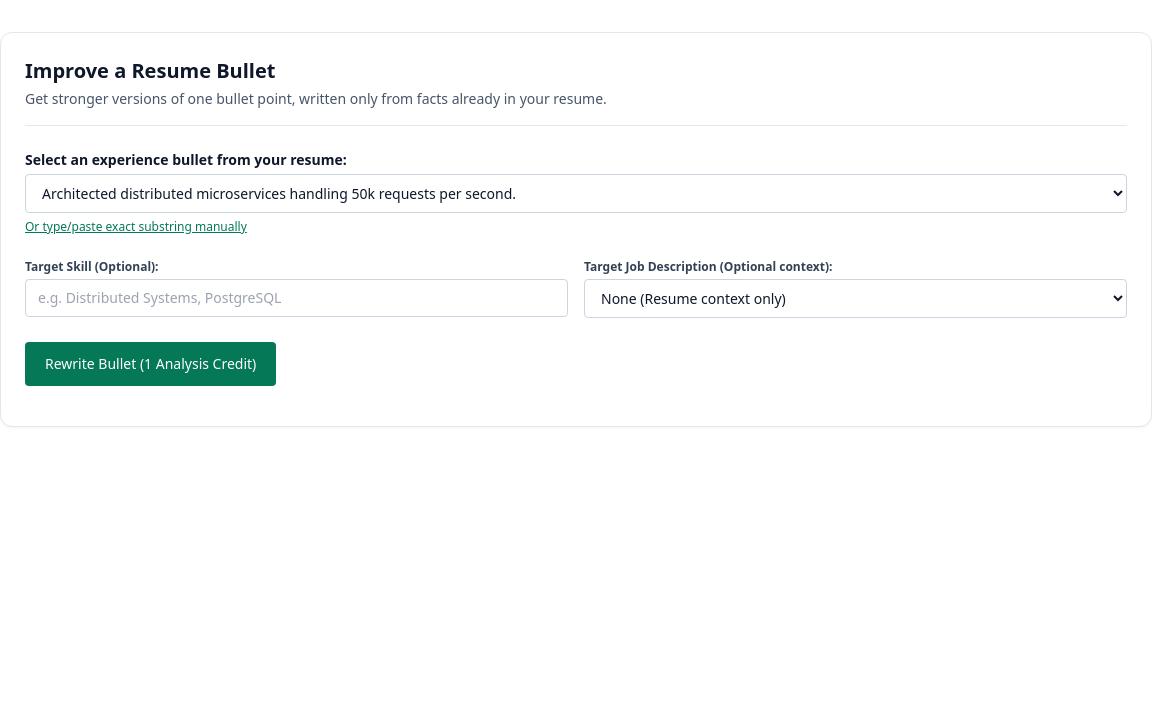
it: BulletEditor Component › renders evidence highlights inside original context with diff legend
This screenshot has width=1152, height=720.
Click the button "Rewrite Bullet (1 Analysis Credit)": (151, 364) top-left (25, 342), bottom-right (276, 386)
(page scrolled)
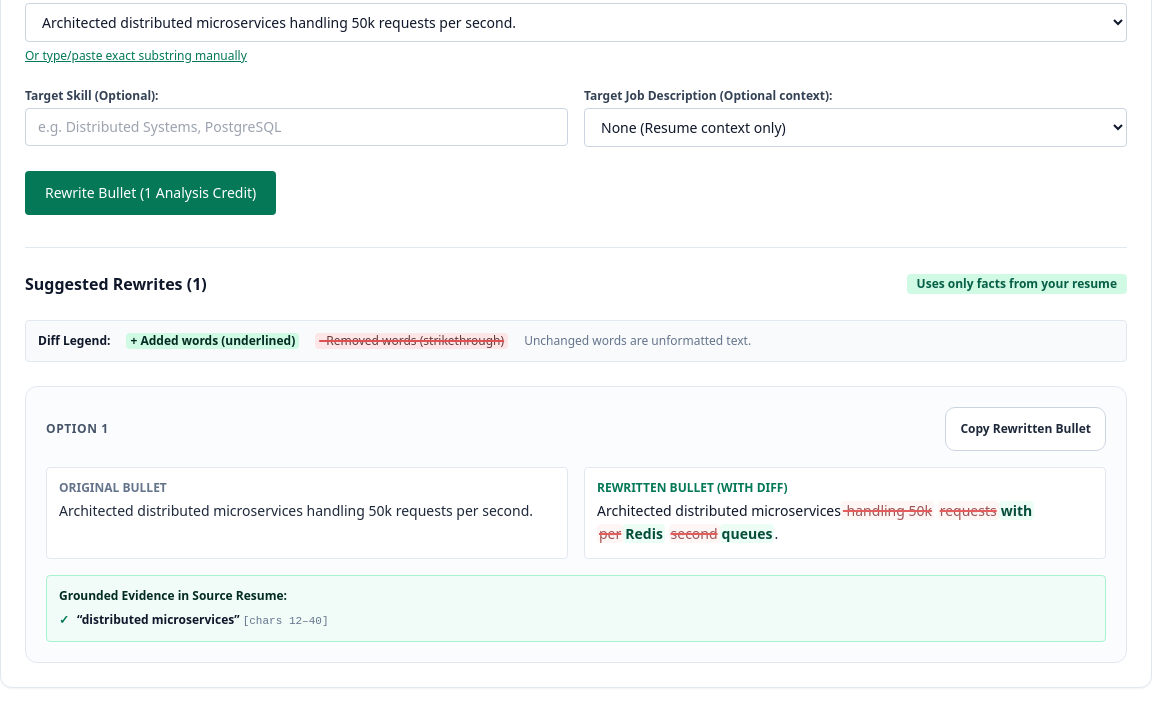
Now the text "Diff Legend:" is shown, box top-left (38, 333), bottom-right (110, 349)
Now the text "+ Added words (underlined)" is shown, box top-left (126, 333), bottom-right (299, 349)
Now the text "- Removed words (strikethrough)" is shown, box top-left (315, 333), bottom-right (508, 349)
